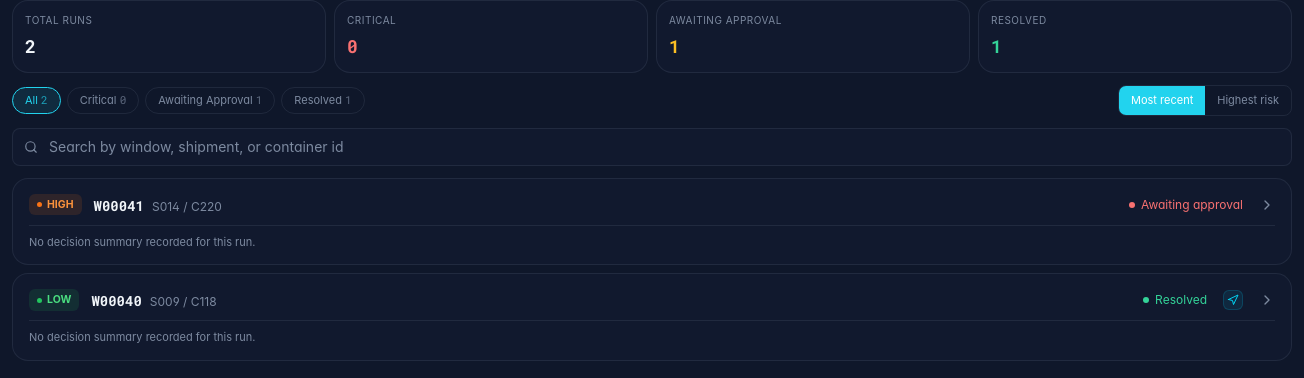
Test: AgentRunList › filters rows by the Resolved chip
Click the button "Resolved 1": (323, 100) [281,87,365,114]
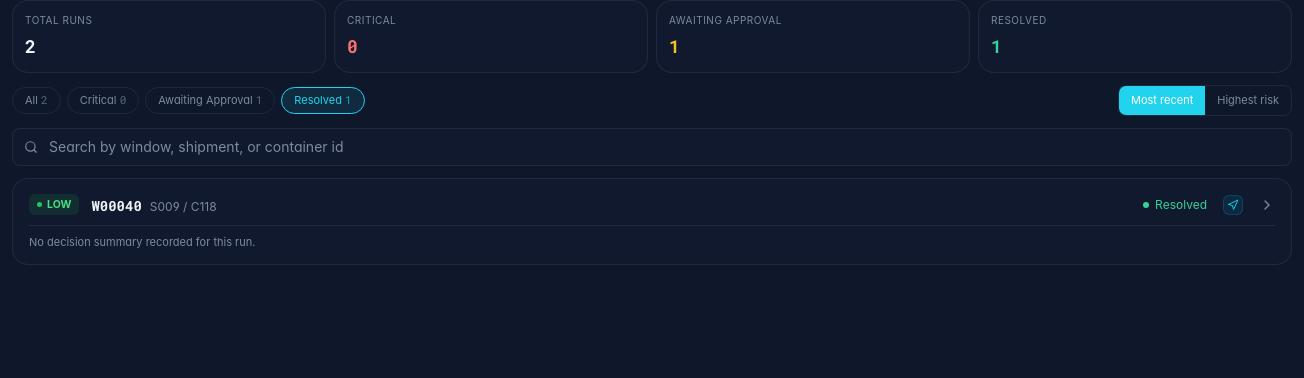
Expected: the text "W00040" is shown, [91,196,142,214]
Expected: the button "W00041" is gone
